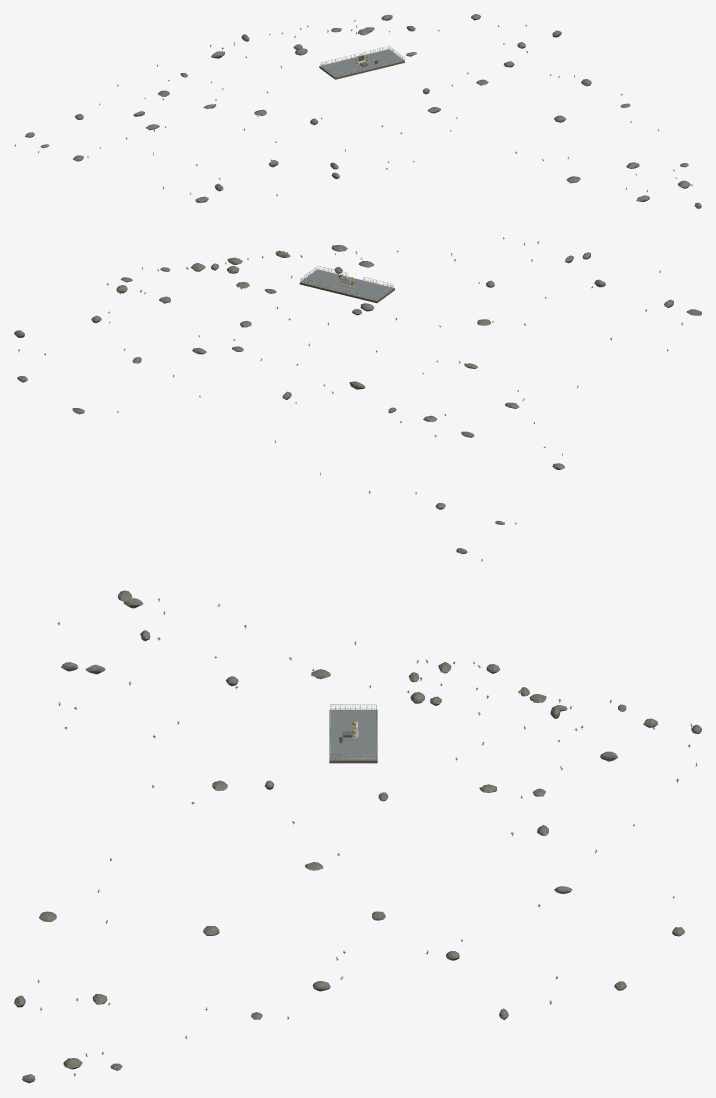
Rendered from nui-sam.glb.
3 renders of one model, top to bottom at view 1: azimuth 30°, elevation 25°; view 2: azimuth 150°, elevation 25°; view 3: azimuth 270°, elevation 25°, orthographic. The views are drawn at different scales.
Visible parts, largest first — view 1: nui-sam-near; view 2: nui-sam-near; view 3: nui-sam-near.
Boxes of the visible parts, bbox=[...] form: nui-sam-near: bbox=[14, 14, 701, 208]; nui-sam-near: bbox=[14, 237, 701, 561]; nui-sam-near: bbox=[14, 590, 701, 1083].
Size of the model in its own units: 151 by 37.97 by 122.
1 material, 1 textured.
